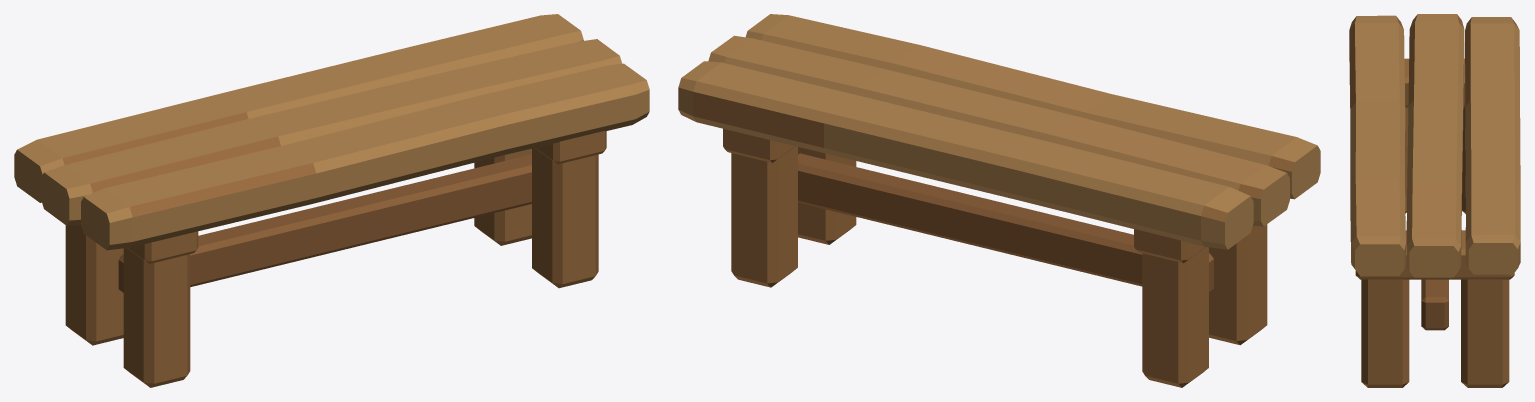
Rendered from bench_simple_plank_01.glb.
3 renders of one model, left to right at view 1: azimuth 30°, elevation 25°; view 2: azimuth 150°, elevation 25°; view 3: azimuth 270°, elevation 25°, orthographic. The views are drawn at different scales.
Parts seen in each view (by area): view 1: bench_simple_plank_01, bench_simple_plank_01__stretcher, bench_simple_plank_01__leg, bench_simple_plank_01__leg.002, bench_simple_plank_01__leg.001, bench_simple_plank_01__leg.003, bench_simple_plank_01__support.001, bench_simple_plank_01__support; view 2: bench_simple_plank_01, bench_simple_plank_01__stretcher, bench_simple_plank_01__leg.003, bench_simple_plank_01__leg.001, bench_simple_plank_01__leg, bench_simple_plank_01__leg.002, bench_simple_plank_01__support.001, bench_simple_plank_01__support; view 3: bench_simple_plank_01, bench_simple_plank_01__leg.002, bench_simple_plank_01__leg.003, bench_simple_plank_01__stretcher, bench_simple_plank_01__support.001, bench_simple_plank_01__leg.001, bench_simple_plank_01__support, bench_simple_plank_01__leg.
Part boxes in pixels (bbox=[...]): bench_simple_plank_01: bbox=[14, 14, 649, 250]; bench_simple_plank_01__stretcher: bbox=[118, 155, 531, 292]; bench_simple_plank_01__leg: bbox=[123, 248, 190, 387]; bench_simple_plank_01__leg.002: bbox=[532, 148, 598, 288]; bench_simple_plank_01__leg.001: bbox=[65, 225, 123, 345]; bench_simple_plank_01__leg.003: bbox=[474, 148, 531, 245]; bench_simple_plank_01__support.001: bbox=[535, 131, 606, 164]; bench_simple_plank_01__support: bbox=[127, 231, 198, 263]; bench_simple_plank_01: bbox=[678, 14, 1320, 249]; bench_simple_plank_01__stretcher: bbox=[798, 153, 1213, 292]; bench_simple_plank_01__leg.003: bbox=[731, 146, 797, 287]; bench_simple_plank_01__leg.001: bbox=[1142, 247, 1208, 387]; bench_simple_plank_01__leg: bbox=[1209, 224, 1267, 345]; bench_simple_plank_01__leg.002: bbox=[798, 147, 856, 244]; bench_simple_plank_01__support.001: bbox=[723, 128, 795, 162]; bench_simple_plank_01__support: bbox=[1134, 229, 1205, 263]; bench_simple_plank_01: bbox=[1349, 14, 1520, 277]; bench_simple_plank_01__leg.002: bbox=[1361, 279, 1409, 387]; bench_simple_plank_01__leg.003: bbox=[1461, 279, 1509, 387]; bench_simple_plank_01__stretcher: bbox=[1421, 279, 1448, 330]; bench_simple_plank_01__support.001: bbox=[1355, 230, 1514, 279]; bench_simple_plank_01__leg.001: bbox=[1462, 107, 1465, 213]; bench_simple_plank_01__support: bbox=[1404, 58, 1465, 107]; bench_simple_plank_01__leg: bbox=[1405, 107, 1408, 213].
Size of the model in its own units: 1.49 by 0.5006 by 0.4631.
